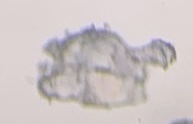microplastic: (36, 21, 178, 111)
